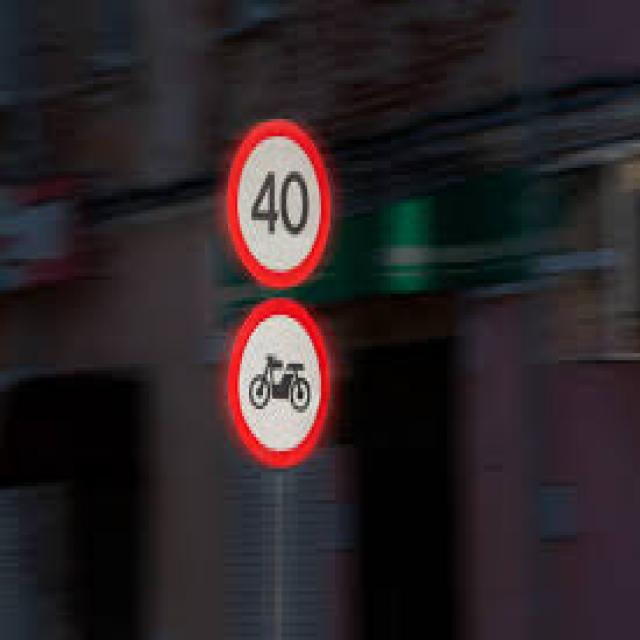speed limit 40: (226, 116, 332, 287)
